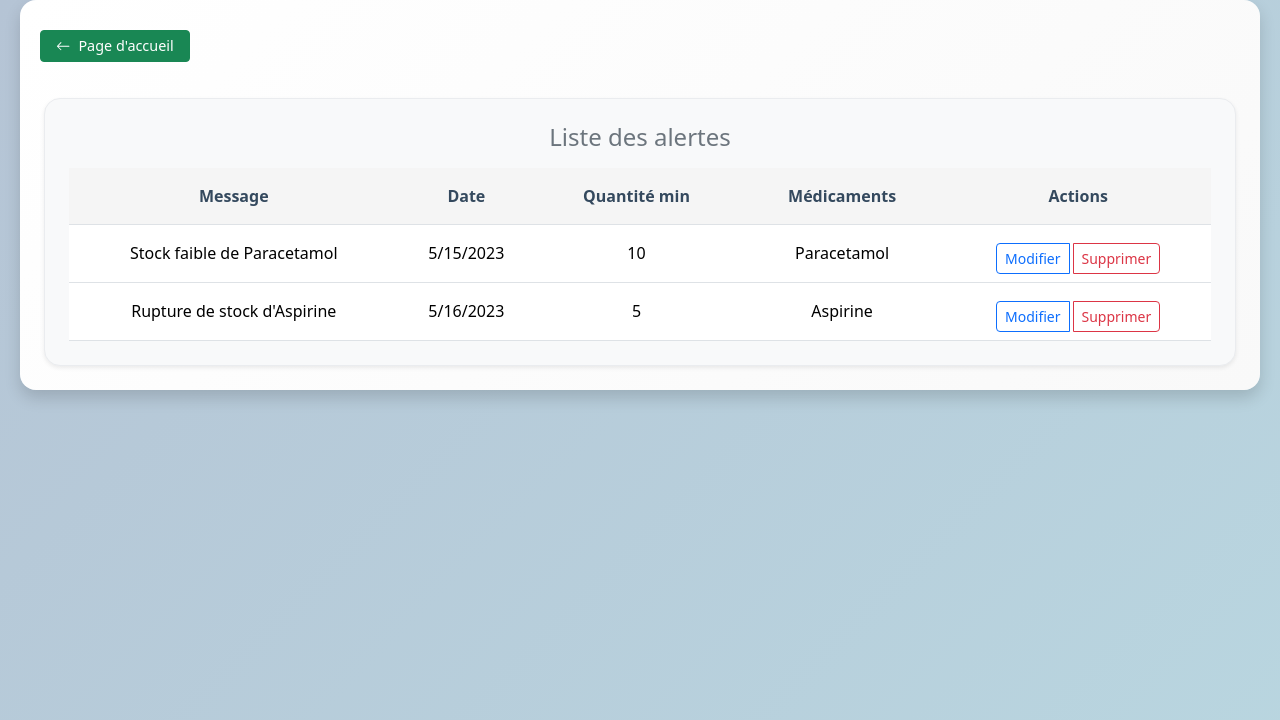
Test: Alerte Component › shows delete confirmation
This screenshot has width=1280, height=720.
Expected: the heading "Liste des alertes" is shown, [549,120,731,153]
Note: Click on delete button for an alerte
Click the button "Supprimer" in the row of "Stock faible de Paracetamol".
click(1116, 258)  # box [1072,243,1160,274]
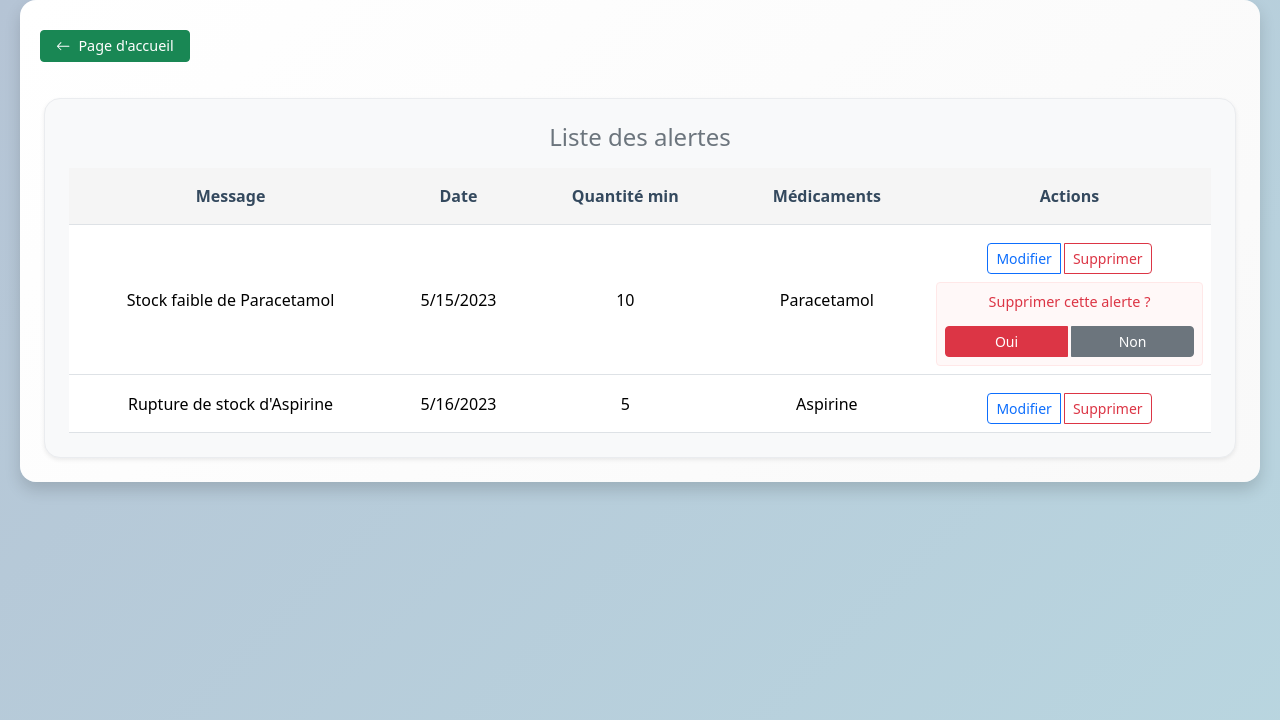
Result: the text "Supprimer cette alerte ?" is shown at [989,292,1150,311]
Note: Click on "No" to cancel
Click the button "Non".
click(1132, 342)  # box [1071,326,1194,357]
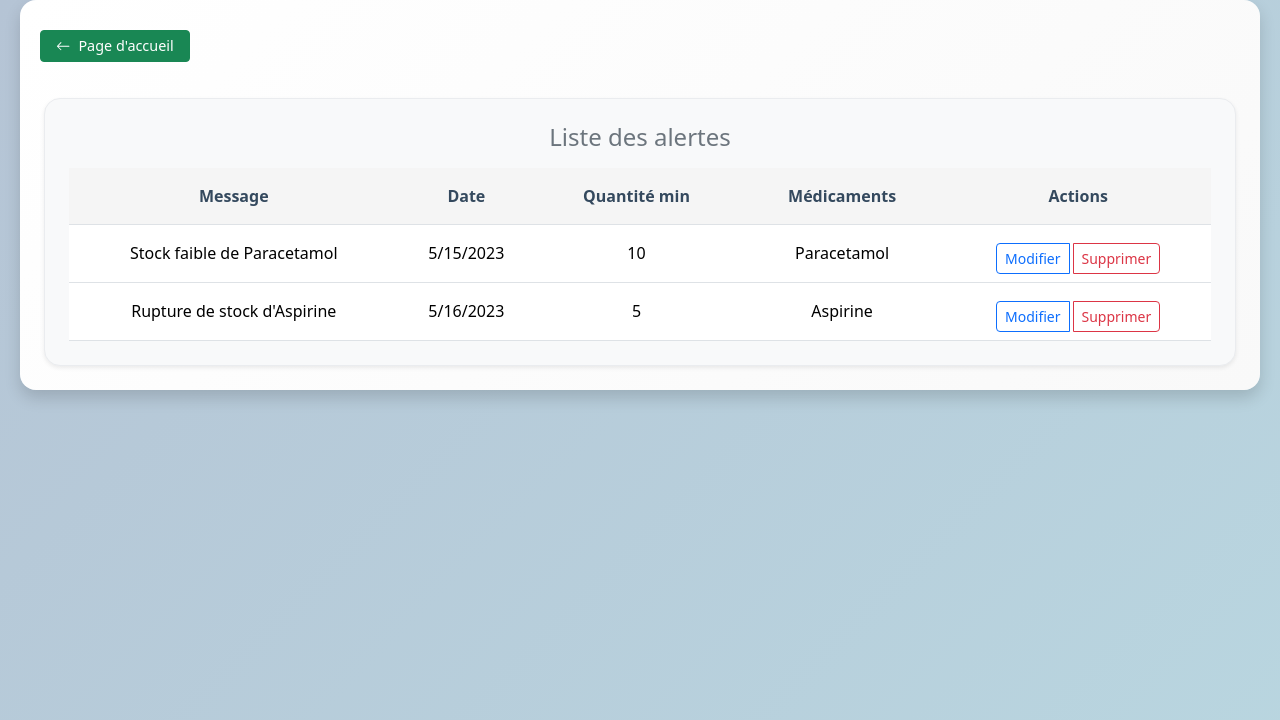
Result: the text "Supprimer cette alerte ?" is gone
